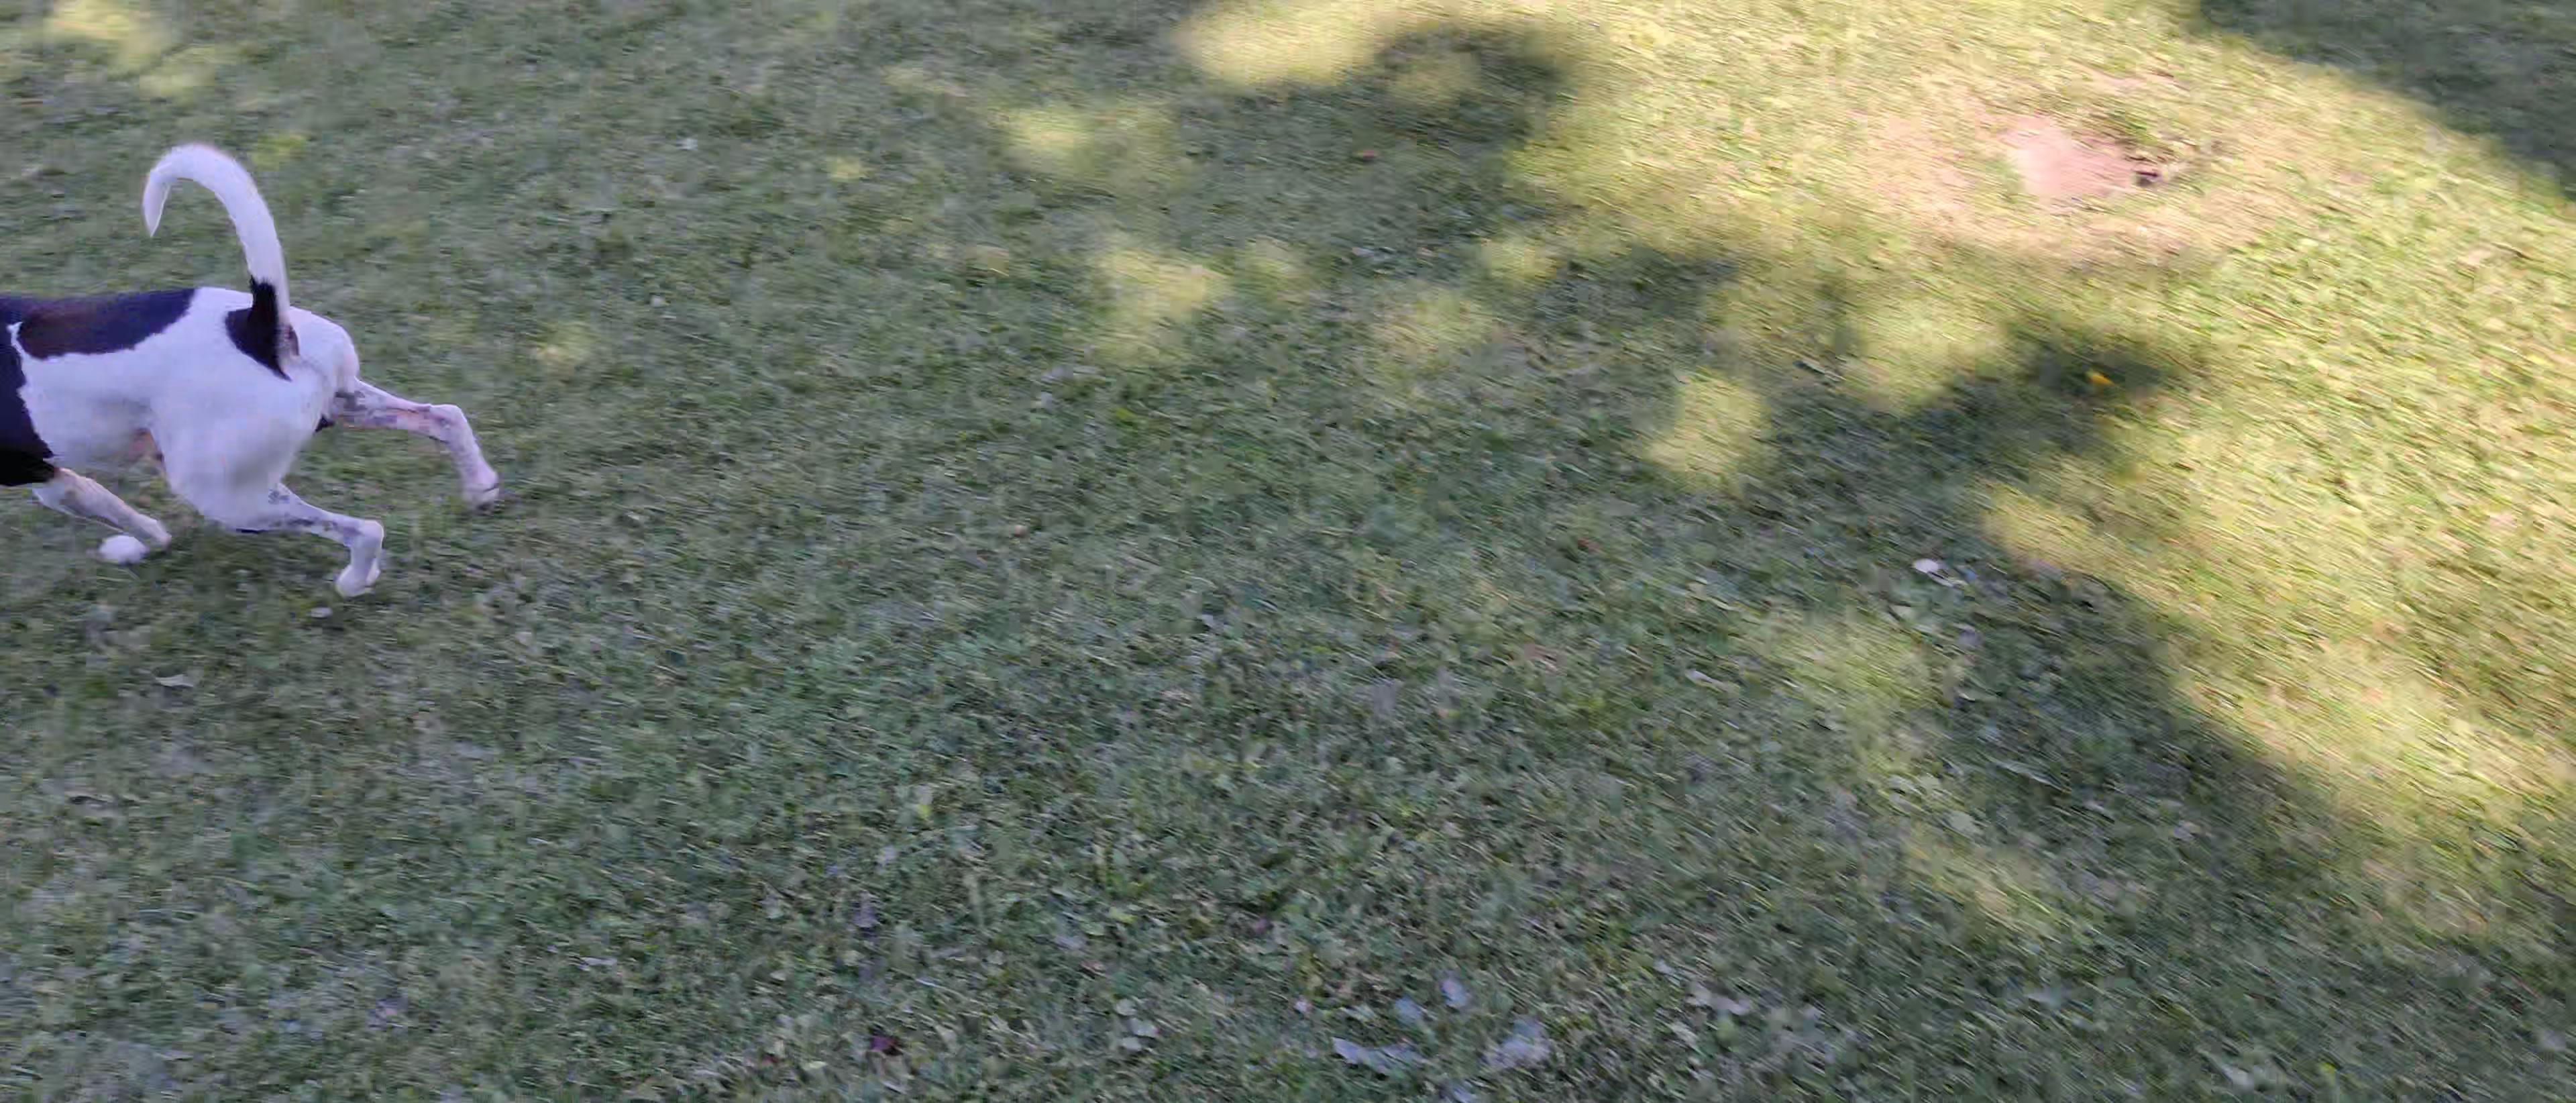Dog: (0, 130, 526, 613)
